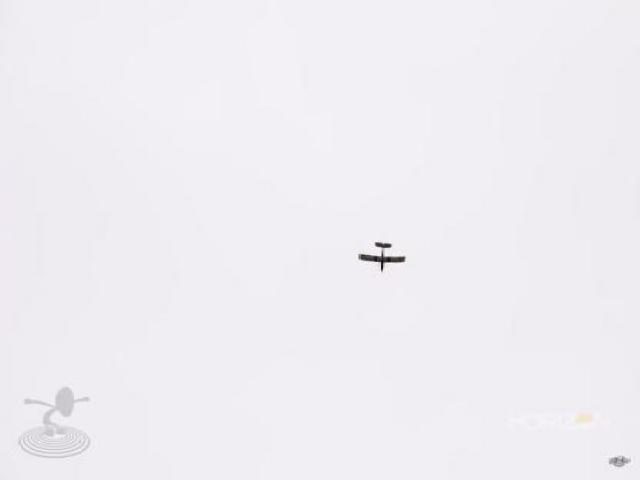uav: (355, 241, 408, 274)
